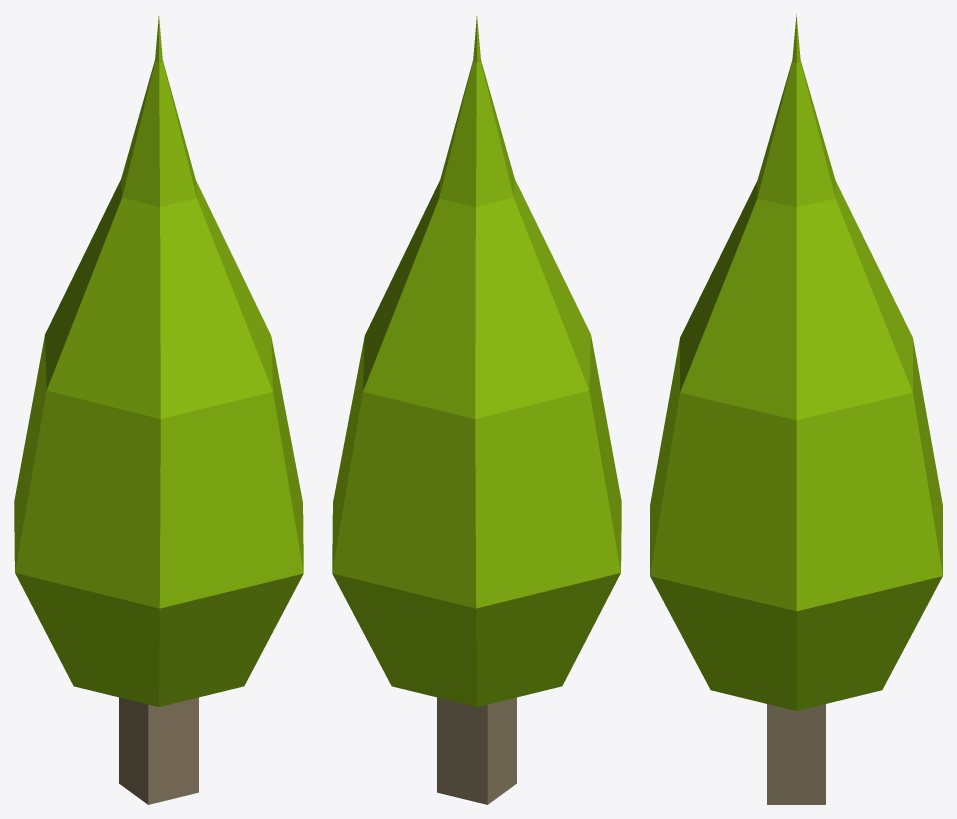
File: tree_cone_5.fbx
3 views of the same model, side by side, from view 1: azimuth 30°, elevation 25°; view 2: azimuth 150°, elevation 25°; view 3: azimuth 270°, elevation 25° (orthographic).
Parts seen in each view (by area): view 1: tree_cone_5; view 2: tree_cone_5; view 3: tree_cone_5.
Part boxes in pixels (x1,y1,x2,y2): tree_cone_5: (14, 16, 303, 804); tree_cone_5: (332, 16, 621, 804); tree_cone_5: (650, 14, 942, 804).
Size of the model in its own units: 70 by 180 by 61.29.
